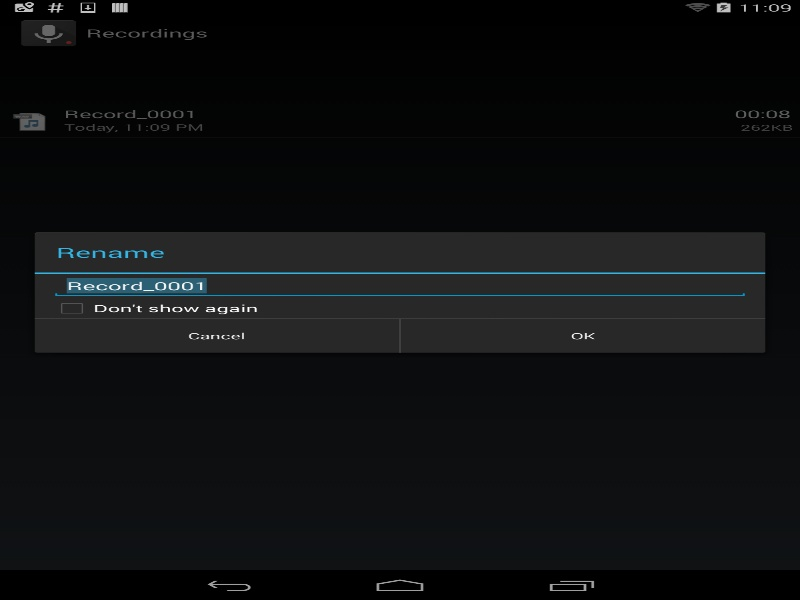Button: (34, 319, 399, 352), (400, 319, 765, 352)
Input: (50, 273, 749, 298)
